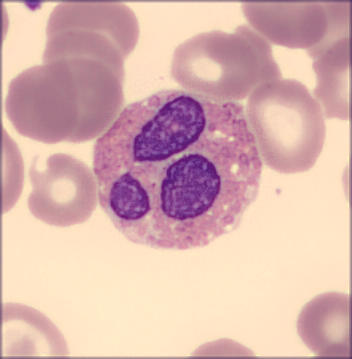EO: (93, 88, 263, 248)
RBC: (243, 79, 325, 176), (168, 30, 257, 103), (46, 62, 124, 143), (7, 62, 82, 144), (41, 30, 124, 104), (45, 1, 140, 65), (25, 151, 99, 228), (241, 1, 326, 49), (294, 290, 352, 359), (1, 302, 71, 357), (308, 41, 352, 126), (304, 1, 352, 63), (1, 122, 25, 216)
